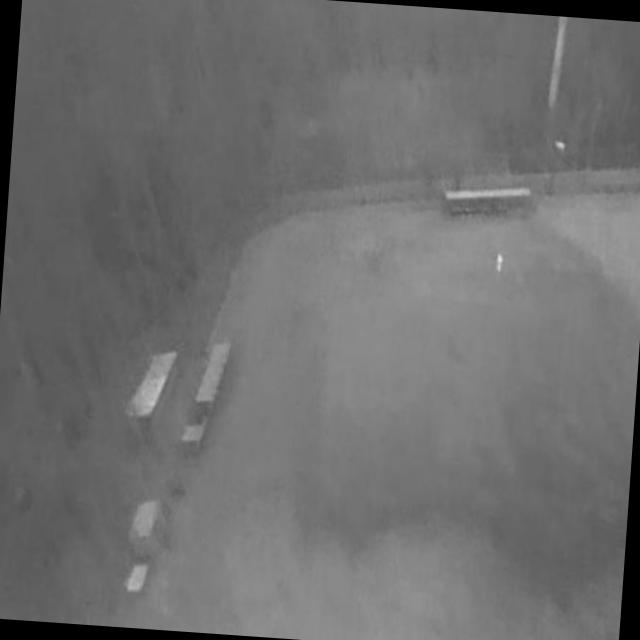person: (496, 255, 505, 275)
